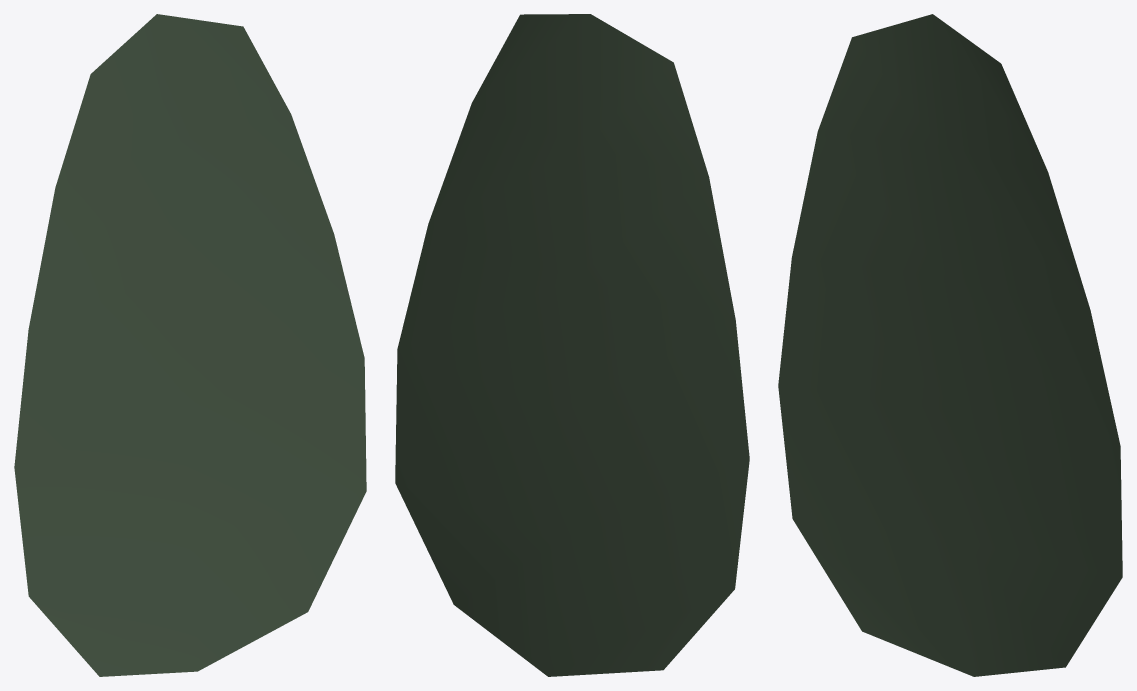
File: duck_feather_flight_tertiary_045.obj
The picture shows the model from 3 angles, left to right: view 1: azimuth 30°, elevation 25°; view 2: azimuth 150°, elevation 25°; view 3: azimuth 330°, elevation 25°; orthographic projection. The views are drawn at different scales.
Visible parts, largest first — view 1: feather_flight_tertiary_045; view 2: feather_flight_tertiary_045; view 3: feather_flight_tertiary_045.
Boxes of the visible parts, box(x1,y1,x2,y2) form: feather_flight_tertiary_045: box(14, 14, 366, 676); feather_flight_tertiary_045: box(395, 14, 749, 676); feather_flight_tertiary_045: box(778, 14, 1122, 676).
Size of the model in its own units: 0.0157 by 0.0284 by 0.000687.
